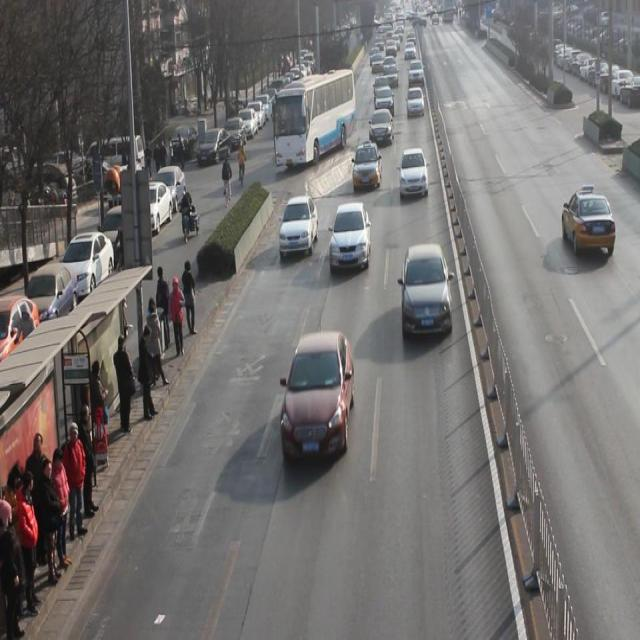car: (281, 329, 355, 466), (400, 242, 452, 338), (561, 188, 616, 255), (329, 200, 372, 272), (279, 195, 319, 258), (398, 145, 428, 196), (352, 140, 381, 191), (369, 106, 394, 146), (373, 84, 395, 116), (404, 84, 424, 116)
van: (274, 66, 358, 165)
